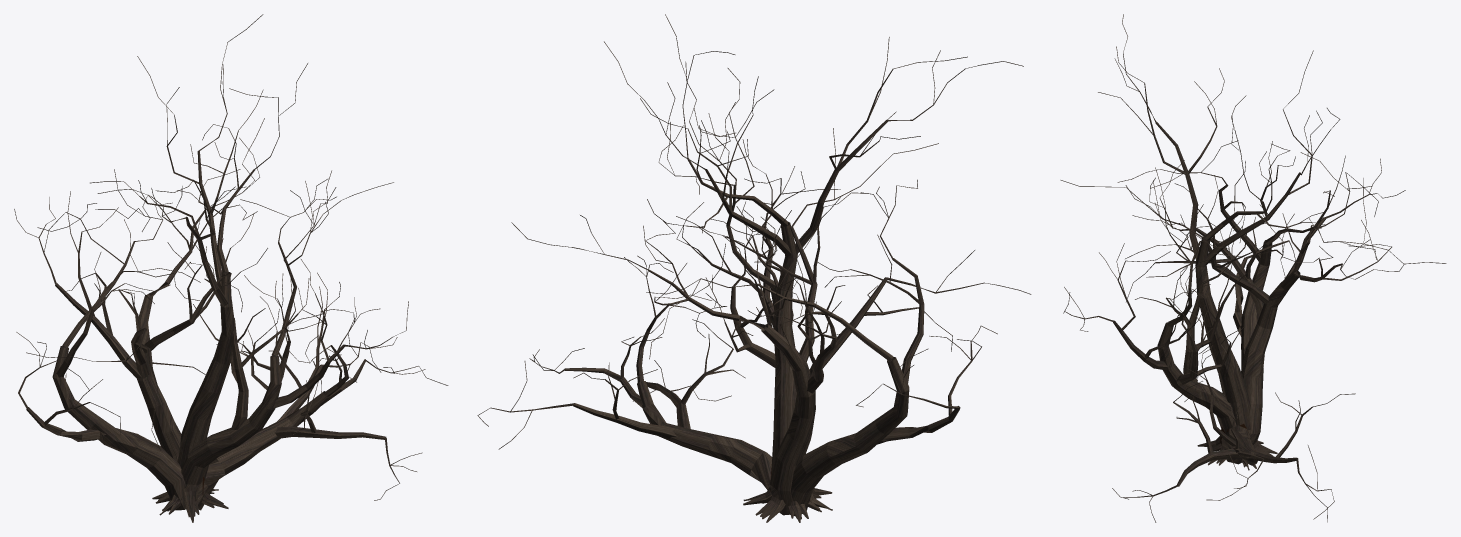
File: drzewa_straszne.glb
The picture shows the model from 3 angles, left to right: view 1: azimuth 30°, elevation 25°; view 2: azimuth 150°, elevation 25°; view 3: azimuth 270°, elevation 25°; orthographic projection. The views are drawn at different scales.
Parts seen in each view (by area): view 1: drzewo_straszne_4, drzewo_straszne_0, drzewo_straszne_1, drzewo_straszne_3, drzewo_straszne_2; view 2: drzewo_straszne_0, drzewo_straszne_3, drzewo_straszne_1, drzewo_straszne_2, drzewo_straszne_4; view 3: drzewo_straszne_1, drzewo_straszne_0, drzewo_straszne_4, drzewo_straszne_2, drzewo_straszne_3.
Part boxes in pixels (left/top/right/bottom): drzewo_straszne_4: left=155, top=170, right=408, bottom=506; drzewo_straszne_0: left=14, top=118, right=267, bottom=522; drzewo_straszne_1: left=90, top=14, right=307, bottom=515; drzewo_straszne_3: left=16, top=169, right=223, bottom=517; drzewo_straszne_2: left=152, top=296, right=448, bottom=516; drzewo_straszne_0: left=511, top=128, right=1031, bottom=519; drzewo_straszne_3: left=646, top=179, right=997, bottom=518; drzewo_straszne_1: left=604, top=14, right=1023, bottom=519; drzewo_straszne_2: left=477, top=255, right=821, bottom=522; drzewo_straszne_4: left=658, top=61, right=840, bottom=522; drzewo_straszne_1: left=1098, top=14, right=1340, bottom=470; drzewo_straszne_0: left=1060, top=155, right=1405, bottom=466; drzewo_straszne_4: left=1063, top=167, right=1277, bottom=463; drzewo_straszne_2: left=1112, top=337, right=1355, bottom=522; drzewo_straszne_3: left=1117, top=140, right=1446, bottom=467.
Size of the model in its own units: 9.34 by 8.86 by 7.61.
Materials: 2 (2 with a texture image).
